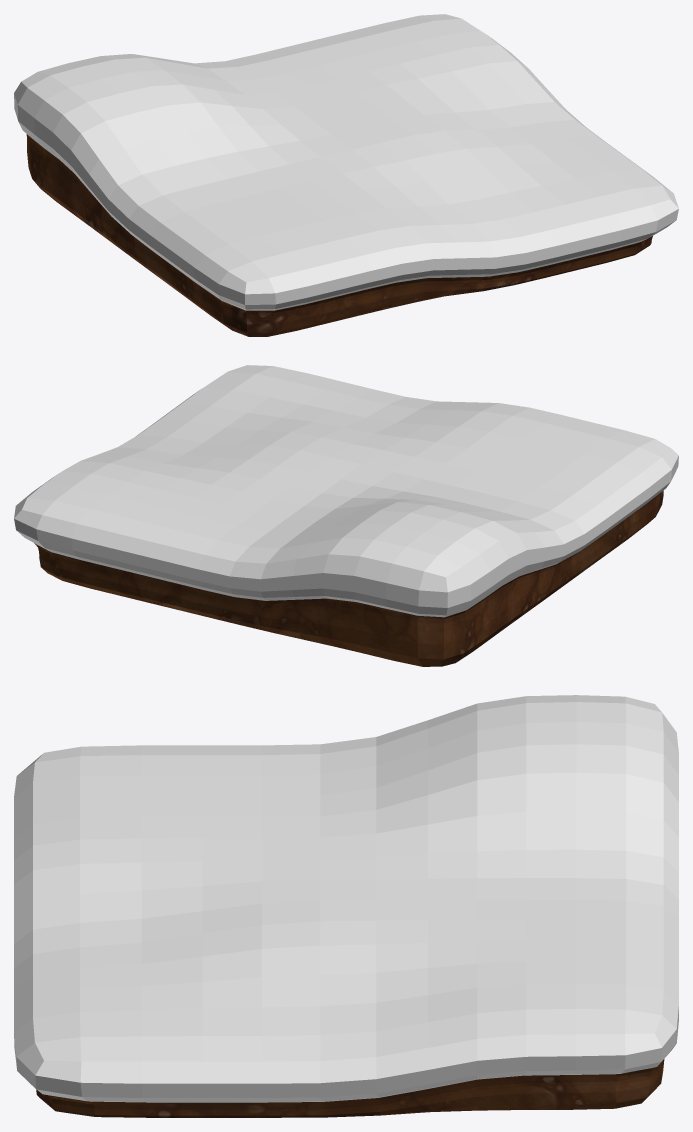
Rendered from platform Block Type 2.fbx.
3 views of the same model, one above another, from view 1: azimuth 30°, elevation 25°; view 2: azimuth 150°, elevation 25°; view 3: azimuth 270°, elevation 25° (orthographic). The views are drawn at different scales.
Parts seen in each view (by area): view 1: Cube.001; view 2: Cube.001; view 3: Cube.001.
Boxes of the visible parts, x1,y1,x2,y2 form: Cube.001: (14, 14, 678, 336); Cube.001: (14, 365, 678, 666); Cube.001: (14, 695, 678, 1117).
Size of the model in its own units: 36.99 by 9.63 by 39.87.
Materials: 2 (1 with a texture image).
